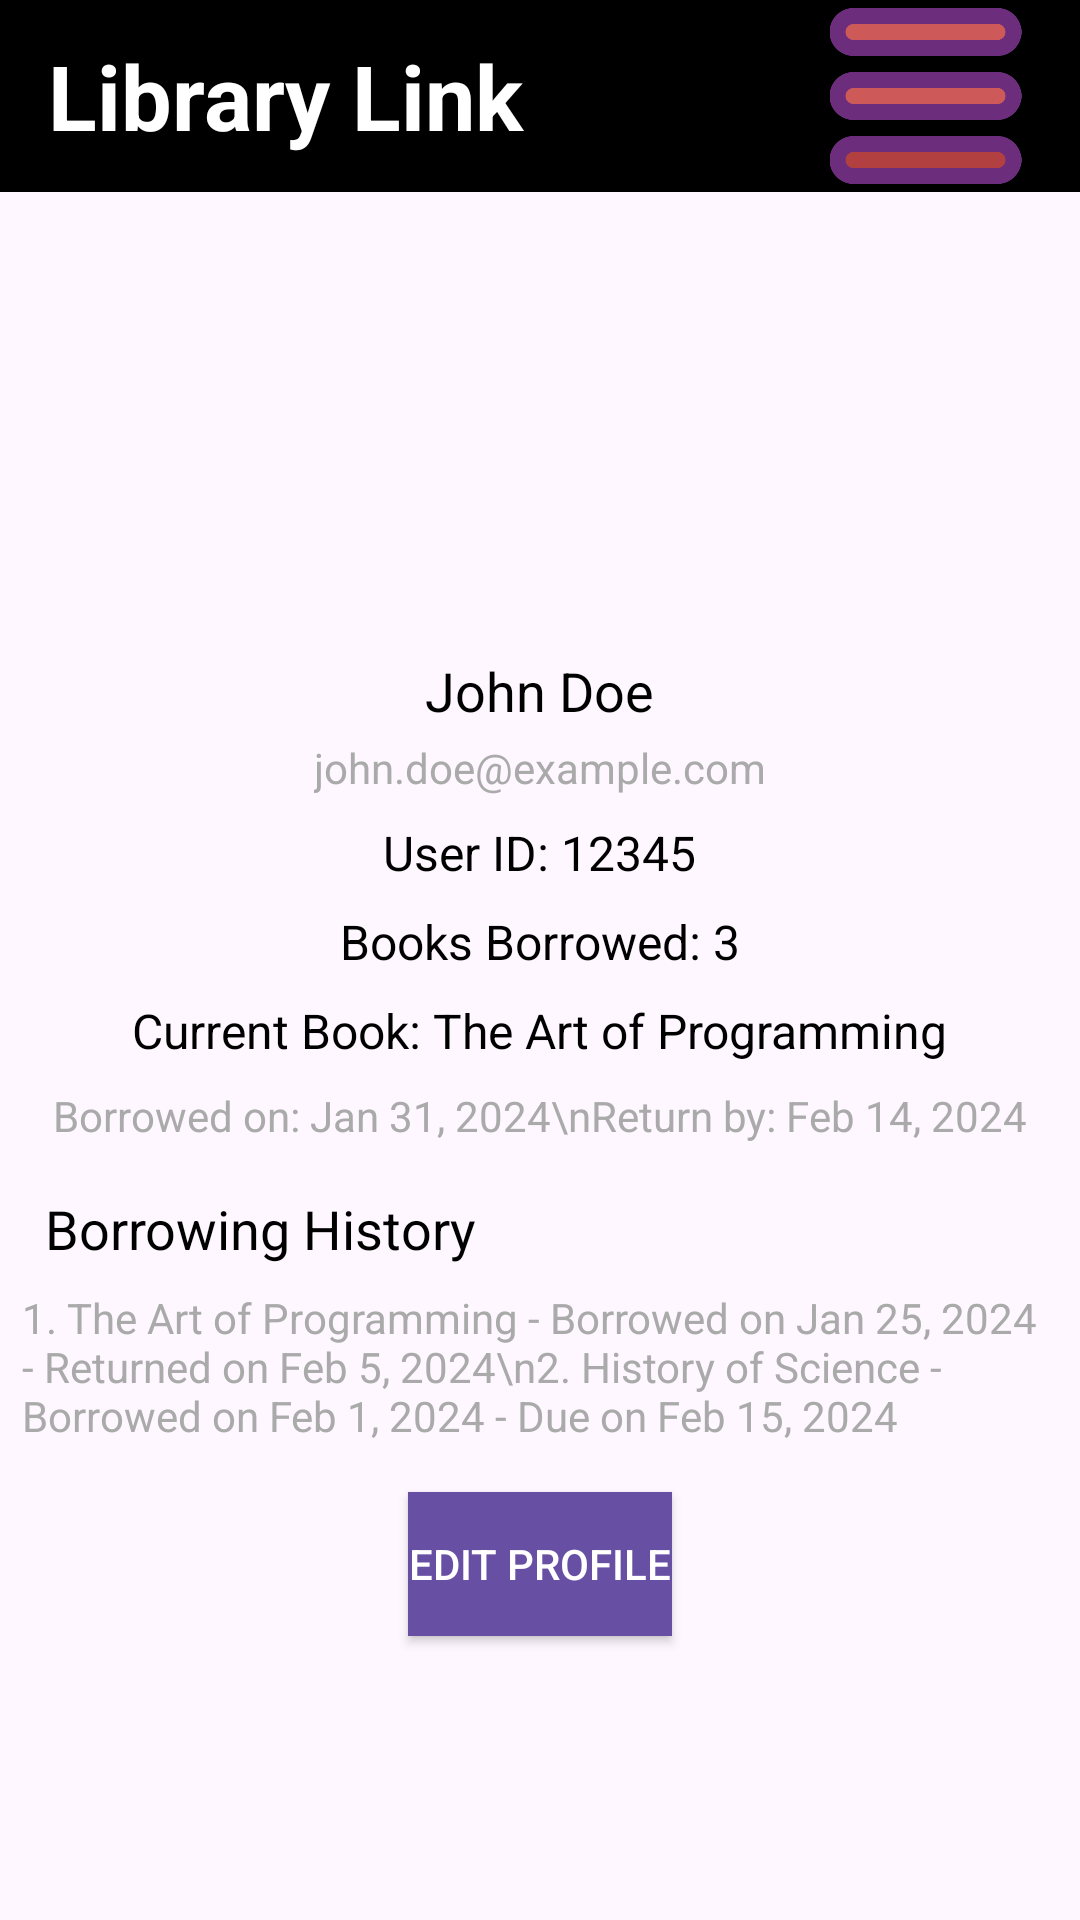

Screen size 1080x1920. Icon name, then its center in pixels as [x,y]:
menu: [926,96]
